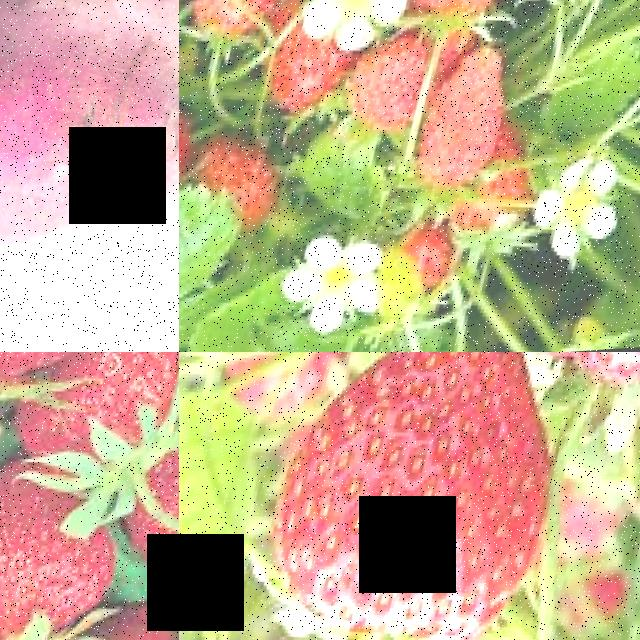strawberry: (254, 352, 588, 640), (0, 450, 143, 622), (421, 43, 533, 198), (350, 40, 443, 138), (179, 79, 211, 208)
sweet potato: (0, 0, 179, 287)
